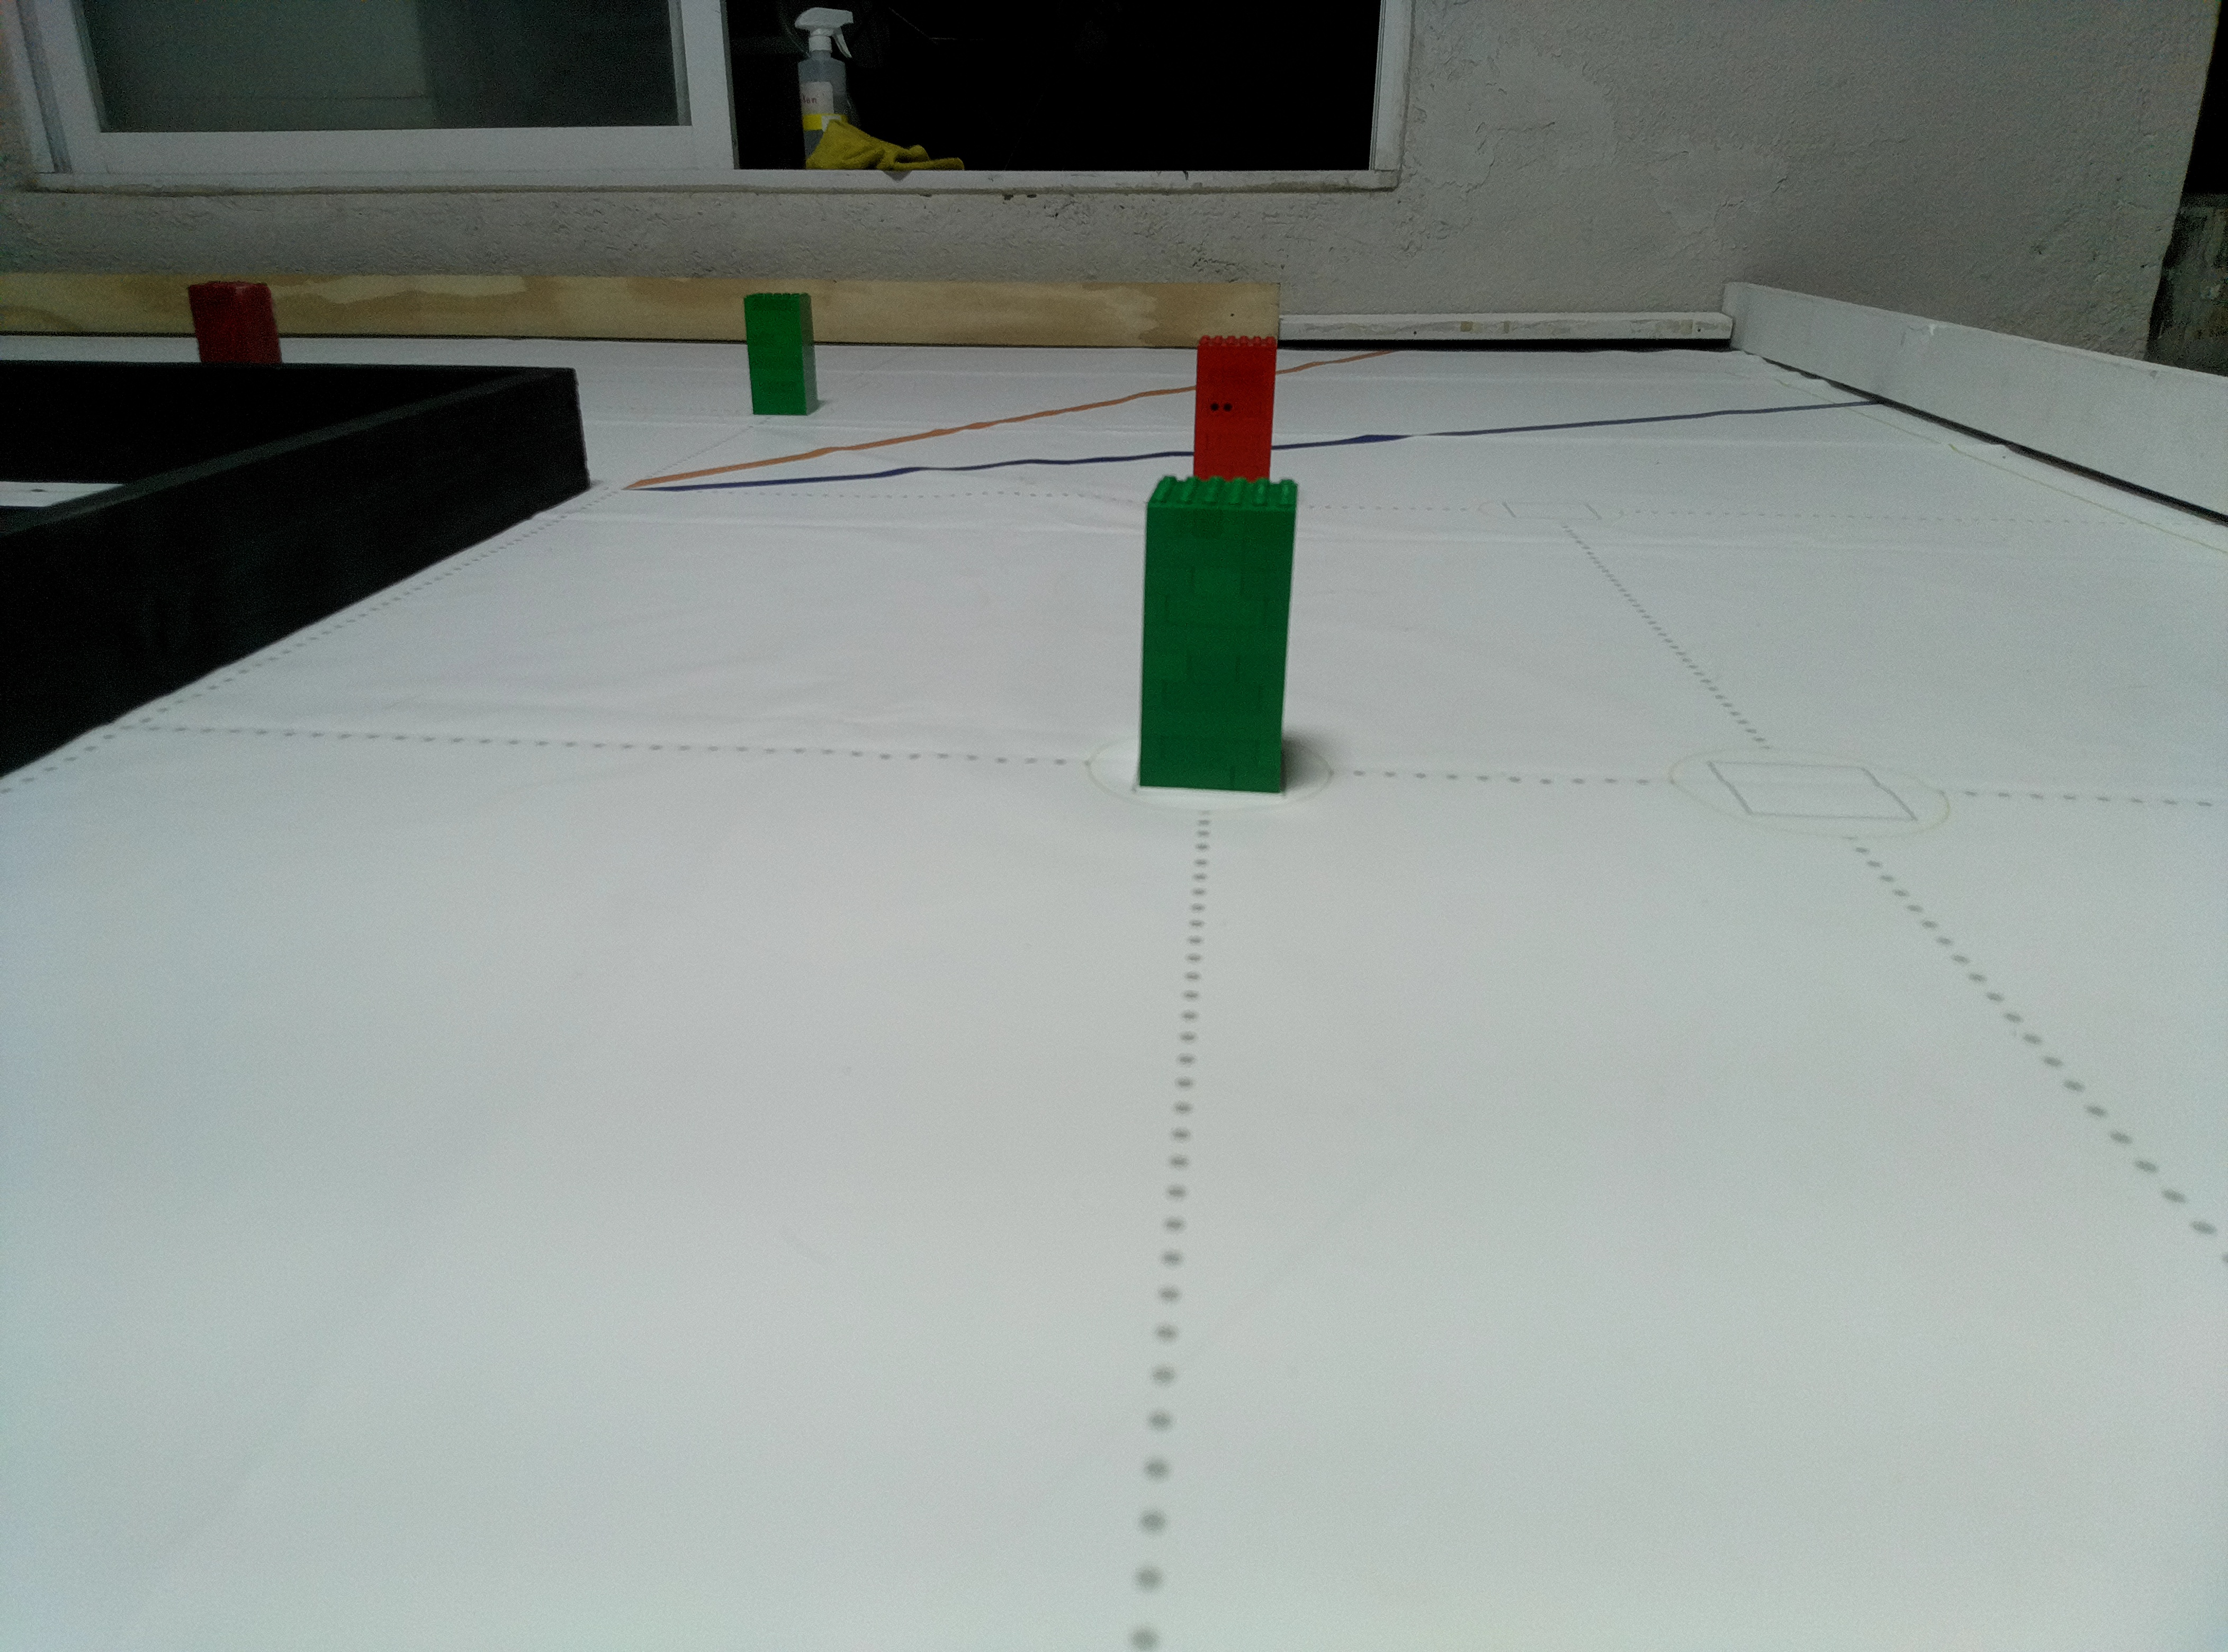greenbox: (1133, 475, 1303, 793), (741, 292, 819, 418)
redbox: (1190, 335, 1282, 482), (184, 279, 286, 368)
